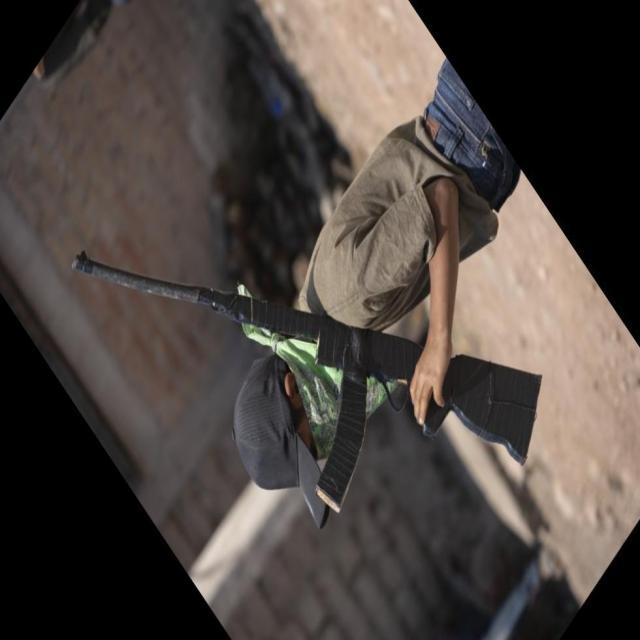weapon: (71, 250, 544, 514)
